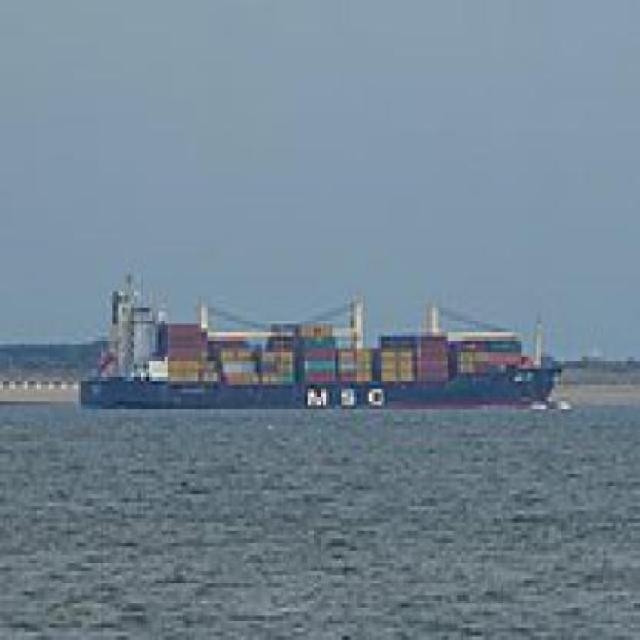container: (71, 264, 580, 427)
